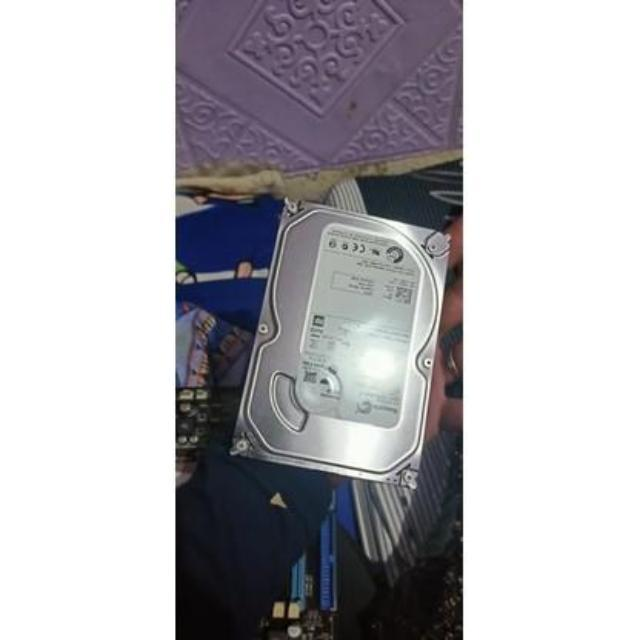DISK: (234, 196, 456, 498)
